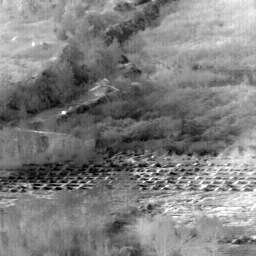aircraft: (62, 112, 64, 114)
